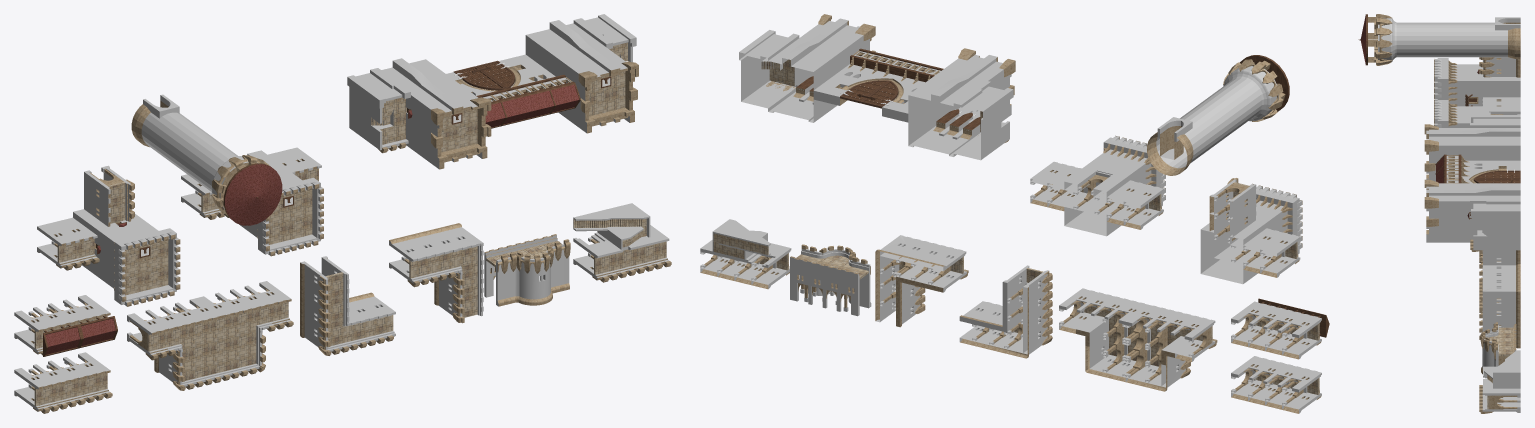
Rendered from CastleWalls.fbx.
3 renders of one model, left to right at view 1: azimuth 30°, elevation 25°; view 2: azimuth 150°, elevation 25°; view 3: azimuth 270°, elevation 25°, orthographic. The views are drawn at different scales.
Visible parts, largest first — view 1: Compone693, Compone222, Compone115, Compone869, Compone307, Compone468, Compone419, Compone180, Componen07, Compone184, Compone131, Compone555; view 2: Compone693, Compone115, Compone307, Compone222, Compone869, Compone468, Compone419, Componen07, Compone180, Compone184, Compone131, Compone555; view 3: Compone693, Compone869, Compone222, Compone419, Compone180, Compone307, Componen07, Compone468, Compone555.
Part boxes in pixels (x1=…): Compone693: x1=347, y1=14, x2=638, y2=169; Compone222: x1=37, y1=165, x2=180, y2=306; Compone115: x1=127, y1=281, x2=293, y2=390; Compone869: x1=131, y1=94, x2=282, y2=225; Compone307: x1=181, y1=147, x2=323, y2=256; Compone468: x1=300, y1=256, x2=395, y2=355; Compone419: x1=389, y1=223, x2=483, y2=323; Compone180: x1=573, y1=203, x2=671, y2=282; Componen07: x1=484, y1=234, x2=570, y2=306; Compone184: x1=14, y1=295, x2=117, y2=356; Compone131: x1=14, y1=352, x2=112, y2=413; Compone555: x1=453, y1=60, x2=514, y2=90; Compone693: x1=739, y1=14, x2=1015, y2=160; Compone115: x1=1059, y1=288, x2=1217, y2=391; Compone307: x1=1030, y1=135, x2=1165, y2=236; Compone222: x1=1200, y1=178, x2=1302, y2=284; Compone869: x1=1147, y1=55, x2=1289, y2=175; Compone468: x1=959, y1=265, x2=1052, y2=358; Compone419: x1=875, y1=235, x2=968, y2=327; Componen07: x1=790, y1=244, x2=871, y2=316; Compone180: x1=700, y1=219, x2=791, y2=289; Compone184: x1=1231, y1=298, x2=1329, y2=359; Compone131: x1=1231, y1=356, x2=1321, y2=413; Compone555: x1=840, y1=80, x2=898, y2=108; Compone693: x1=1424, y1=115, x2=1520, y2=251; Compone869: x1=1358, y1=14, x2=1520, y2=65; Compone222: x1=1434, y1=57, x2=1520, y2=106; Compone419: x1=1479, y1=264, x2=1520, y2=348; Compone180: x1=1479, y1=350, x2=1520, y2=413; Compone307: x1=1434, y1=97, x2=1520, y2=127; Componen07: x1=1480, y1=322, x2=1516, y2=374; Compone468: x1=1479, y1=250, x2=1520, y2=312; Compone555: x1=1473, y1=169, x2=1520, y2=183.
Size of the model in its own units: 5060 by 2173 by 1466.
